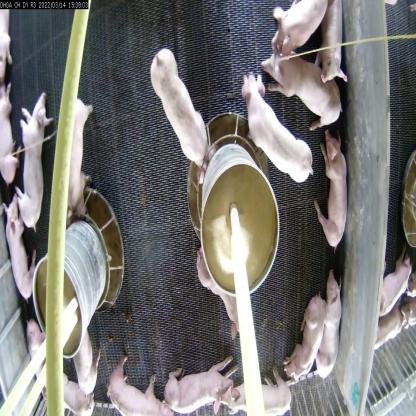Pig: (241, 76, 315, 194), (143, 44, 215, 162), (265, 49, 346, 130), (9, 91, 52, 227), (188, 241, 249, 335), (56, 92, 94, 221), (2, 193, 44, 309), (156, 359, 238, 416), (283, 287, 328, 385), (320, 125, 350, 255), (311, 261, 341, 390), (18, 319, 60, 406), (268, 0, 329, 55), (60, 333, 108, 402), (110, 370, 177, 415), (318, 0, 349, 86), (0, 84, 24, 192), (222, 382, 290, 416)
